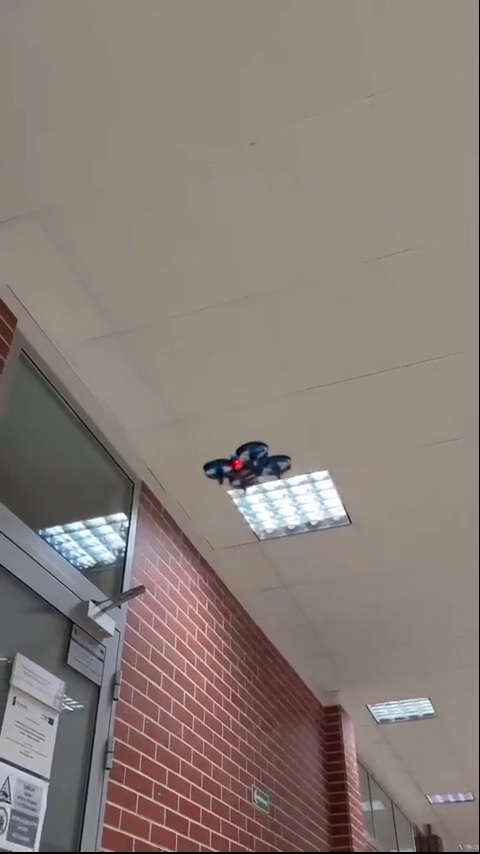drone: (200, 443, 292, 494)
